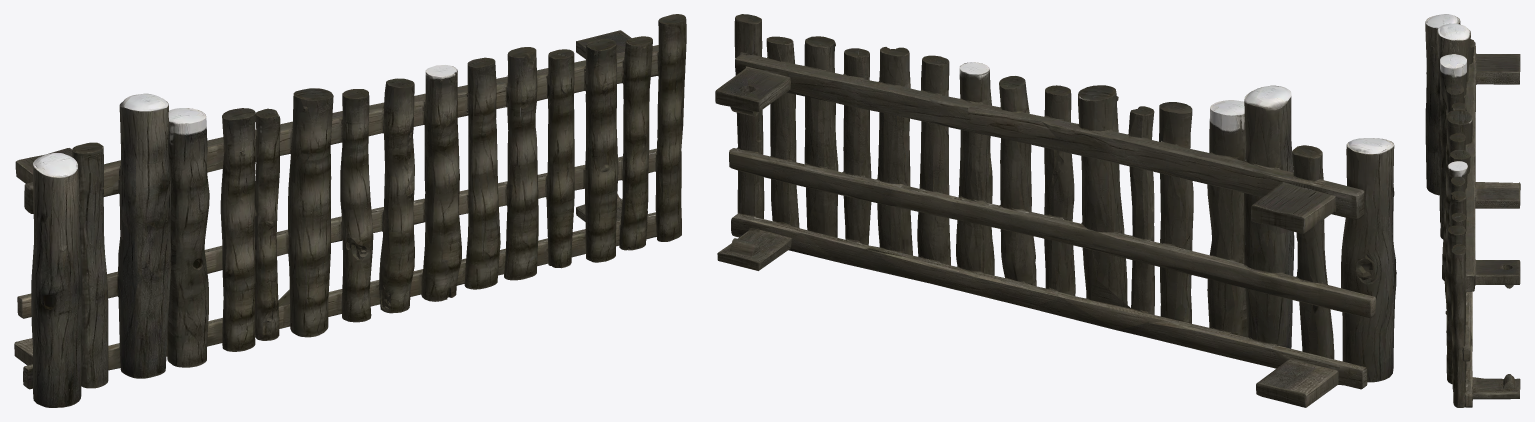
The model's file is wooden_fence.glb.
The picture shows the model from 3 angles, left to right: view 1: azimuth 30°, elevation 25°; view 2: azimuth 150°, elevation 25°; view 3: azimuth 270°, elevation 25°; orthographic projection. The views are drawn at different scales.
Bounding box in the file's own units: 1.9 × 0.7458 × 0.3315.
1 material, 1 textured.
